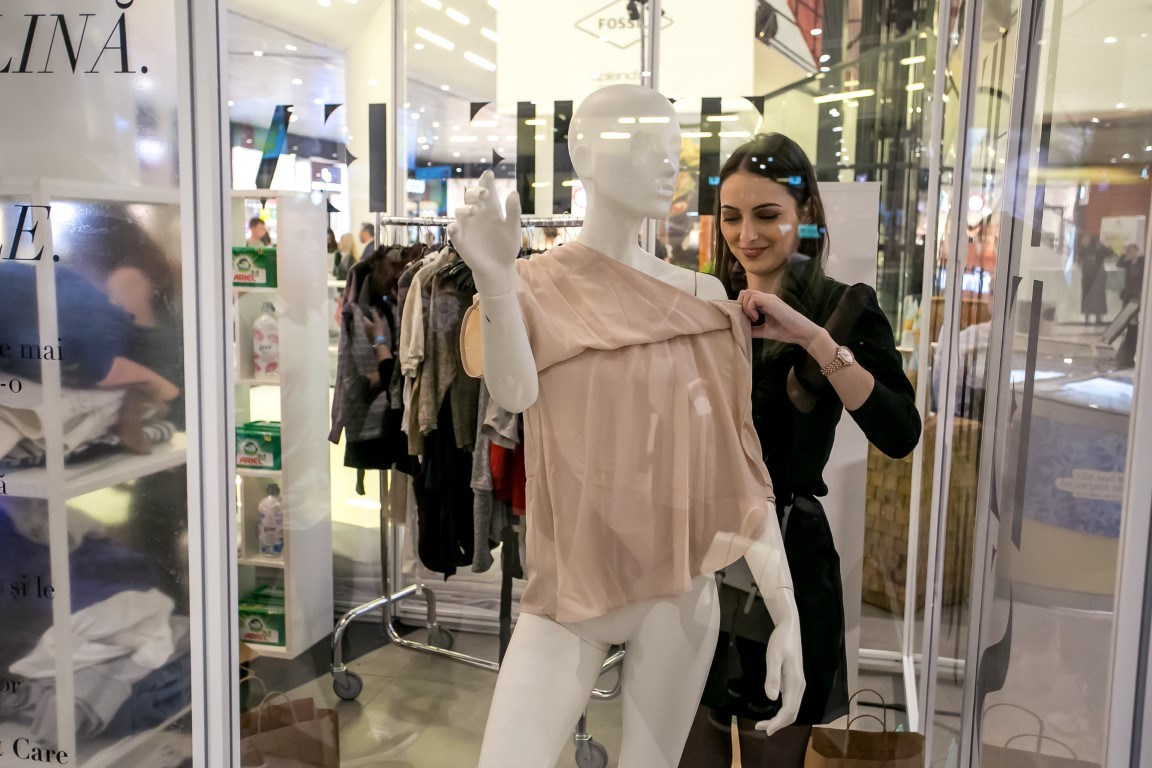Age_20_30: (708, 135, 819, 268)
E_White: (708, 135, 819, 268)
Emotion_Happy: (708, 135, 819, 268)
G_ Female: (708, 135, 819, 268)
Not_Face: (579, 87, 689, 229)
